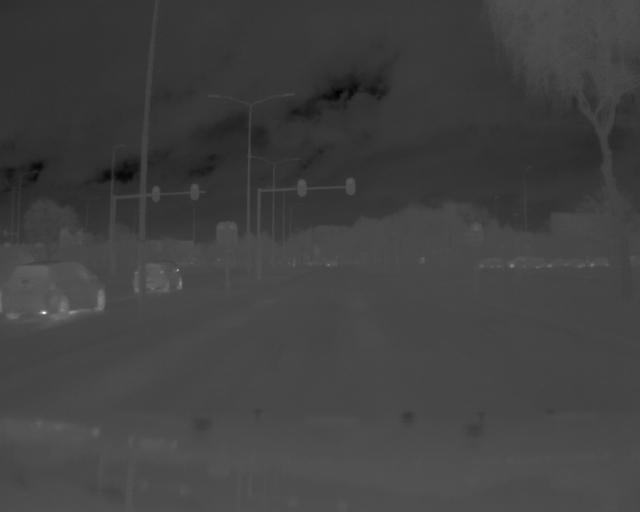car: (1, 255, 109, 323), (130, 254, 187, 300)
